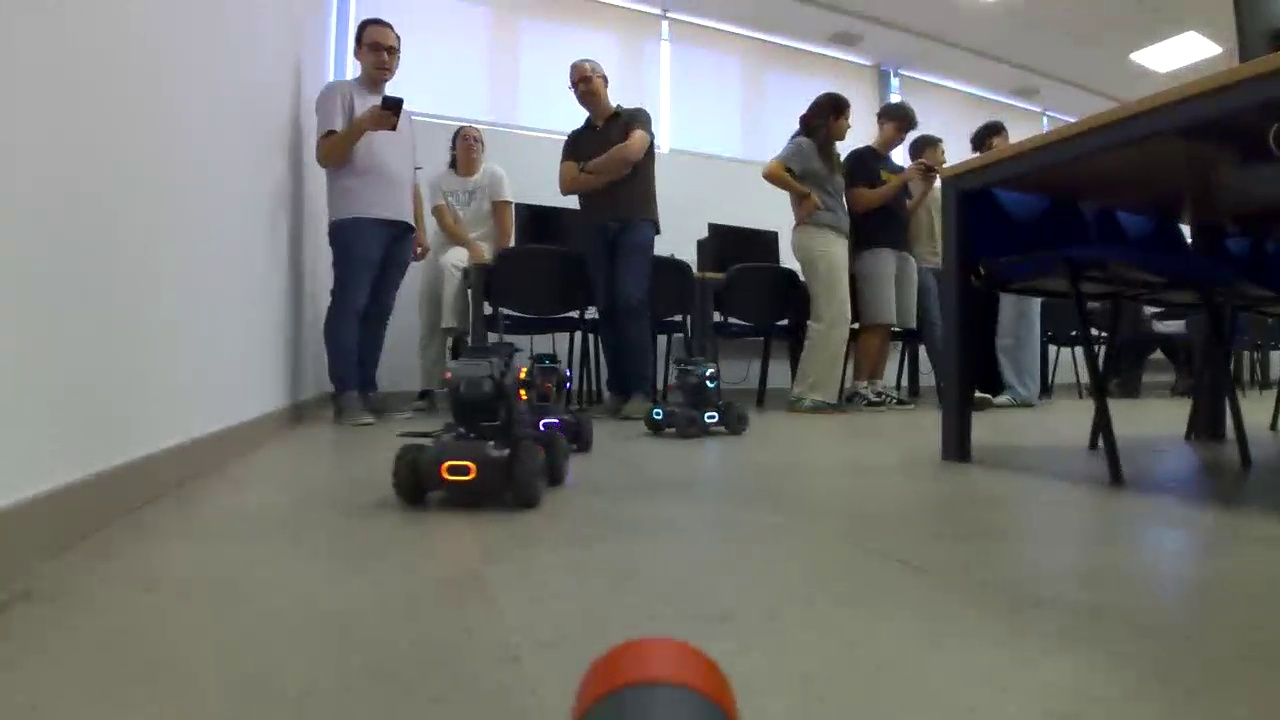robot: (390, 335, 571, 521), (640, 352, 756, 441), (523, 348, 593, 452)
